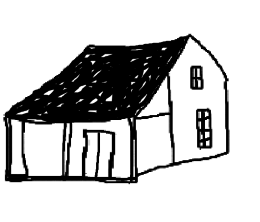closed_window: (191, 100, 215, 154), (187, 63, 207, 96)
door: (79, 123, 117, 185)
shaded_roof: (2, 25, 231, 126)
wall: (158, 34, 237, 163)
